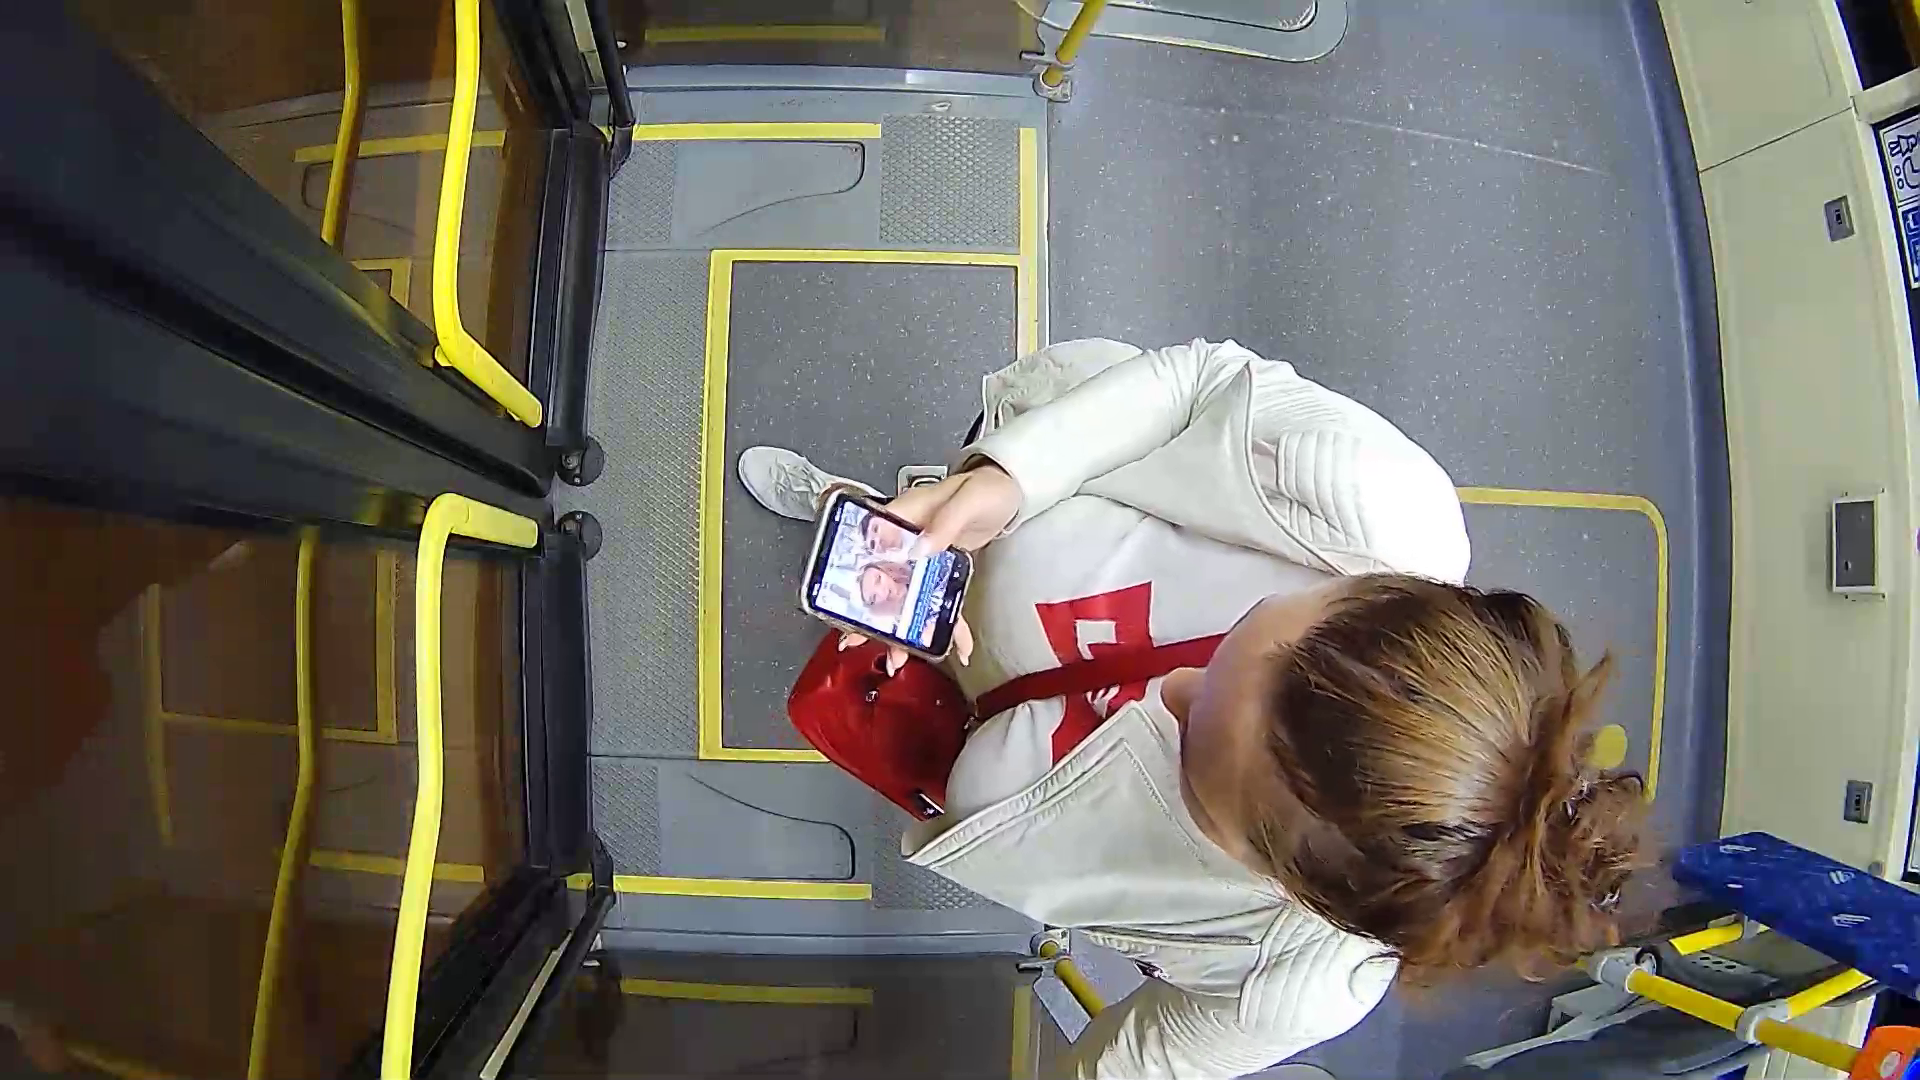person: (650, 336, 1727, 1058)
